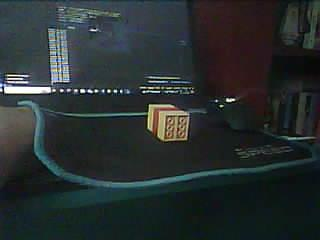lego: (146, 103, 190, 142)
